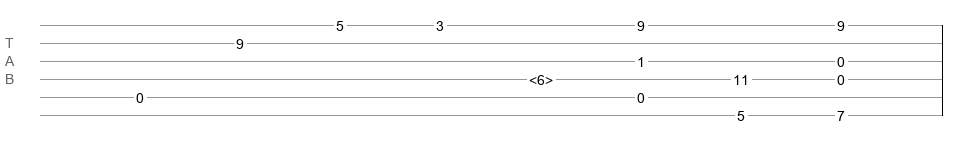0: (136, 90, 144, 100), (637, 90, 645, 100), (837, 54, 845, 64), (837, 72, 845, 82)
1: (637, 54, 645, 64)
11: (733, 72, 749, 82)
3: (436, 18, 444, 28)
5: (336, 18, 344, 28), (737, 108, 745, 118)
7: (837, 108, 845, 118)
9: (236, 36, 244, 46), (637, 18, 645, 28), (837, 18, 845, 28)
harmonic: (529, 72, 553, 82)
